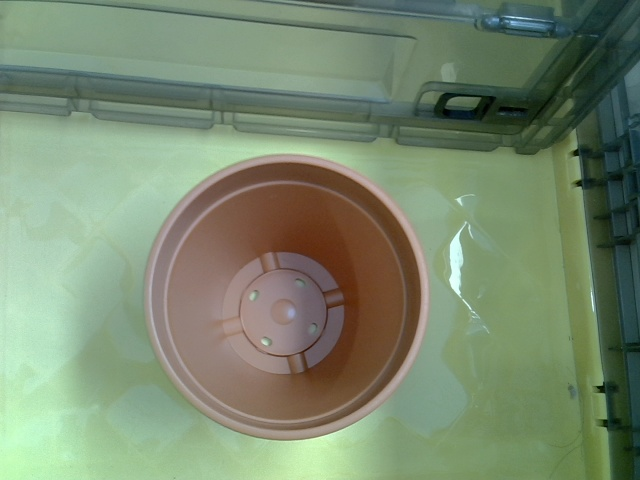화분: (144, 152, 434, 443)
